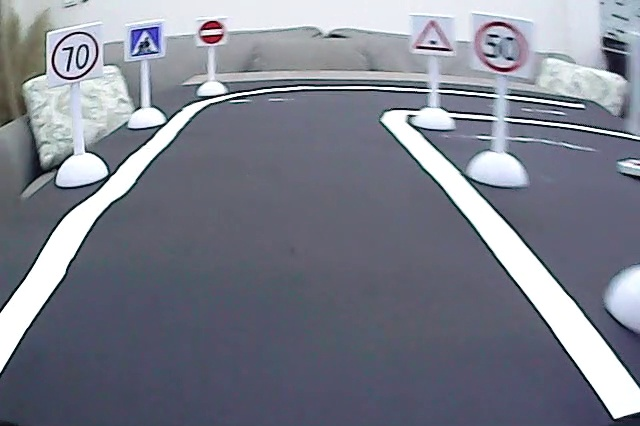do not enter: (197, 19, 225, 46)
green light: (412, 18, 455, 56)
school crossing: (127, 25, 162, 60)
speed limit 50: (474, 17, 530, 77)
speed limit 70: (52, 28, 99, 84)
